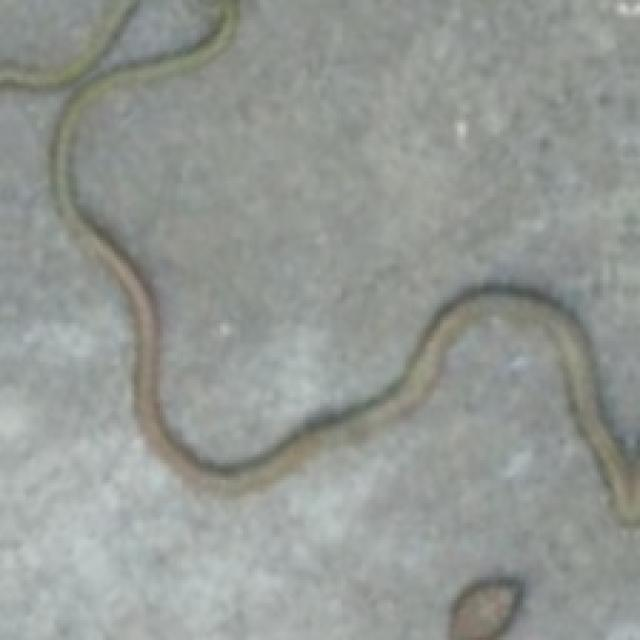paradise tree snake: (51, 0, 637, 520)
